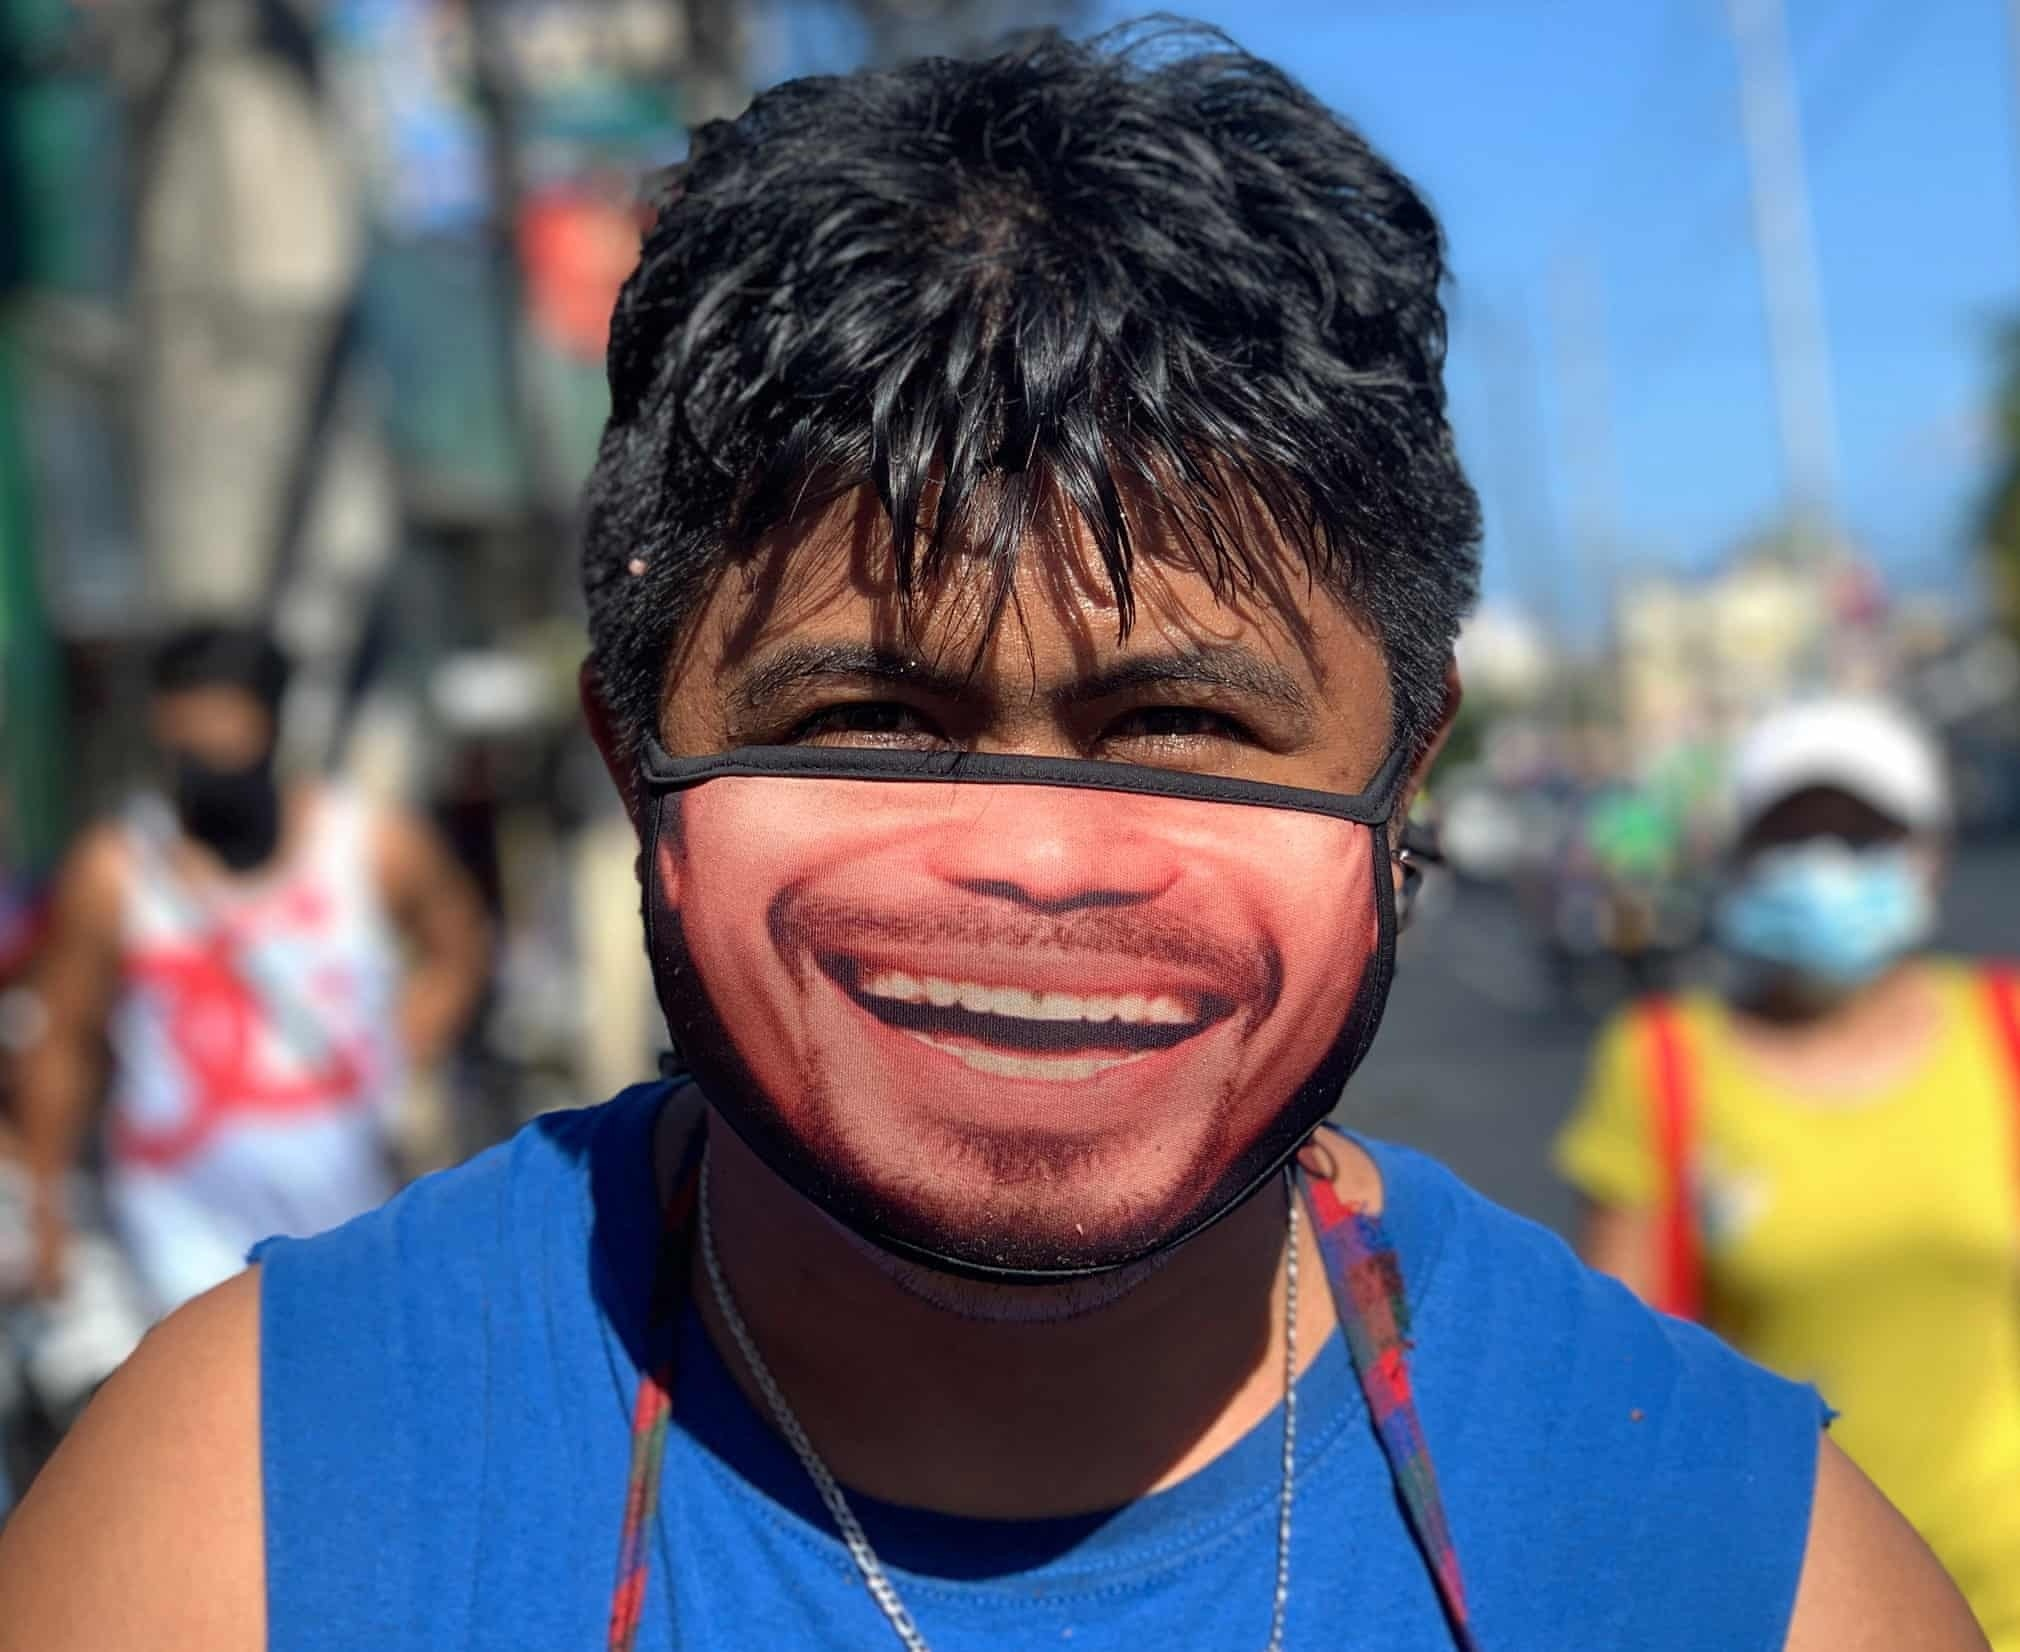face_with_mask: (575, 59, 1467, 1314)
